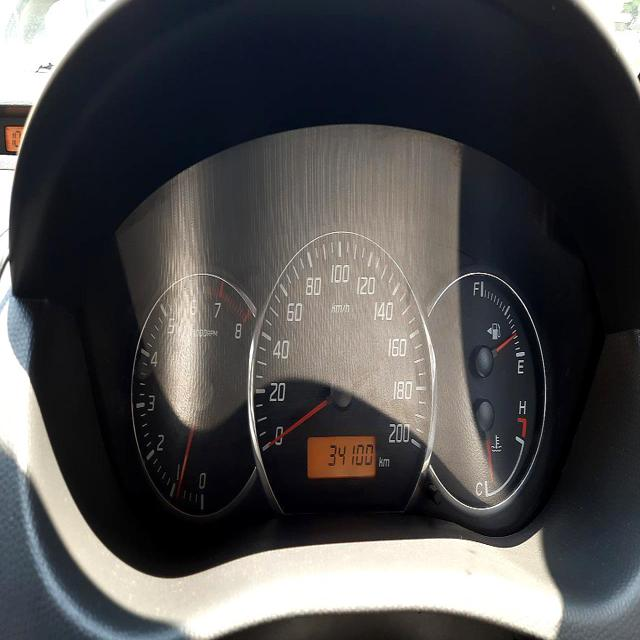odometer: (326, 441, 374, 468)
